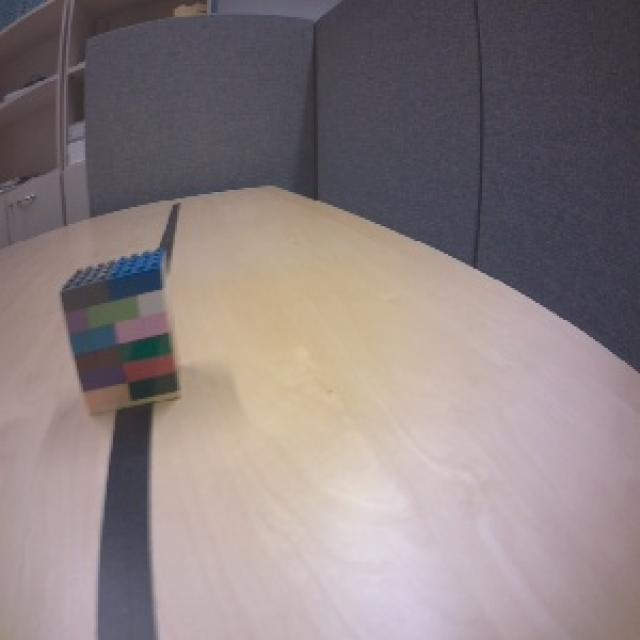obstacle: (58, 245, 184, 418)
